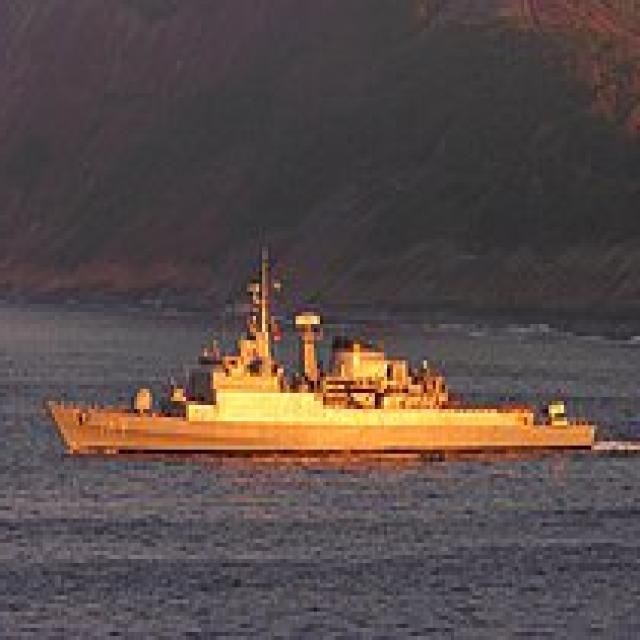Warship: (46, 239, 600, 458)
